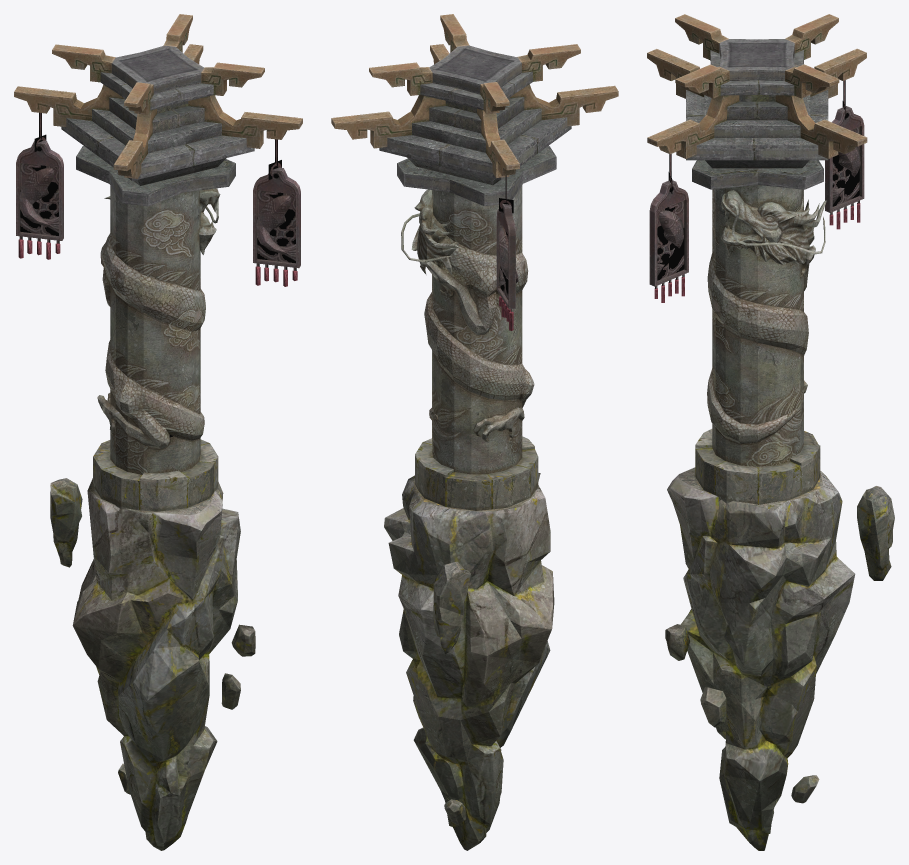
The model's file is bg_anh_gvalley_dragonpoll01_sm_out.FBX.
The picture shows the model from 3 angles, left to right: view 1: azimuth 30°, elevation 25°; view 2: azimuth 150°, elevation 25°; view 3: azimuth 270°, elevation 25°; orthographic projection.
Parts seen in each view (by area): view 1: bg_anh_gvalley_dragonpoll01_sm_out; view 2: bg_anh_gvalley_dragonpoll01_sm_out; view 3: bg_anh_gvalley_dragonpoll01_sm_out.
Part boxes in pixels (bbox=[...]): bg_anh_gvalley_dragonpoll01_sm_out: bbox=[14, 14, 302, 850]; bg_anh_gvalley_dragonpoll01_sm_out: bbox=[331, 14, 618, 850]; bg_anh_gvalley_dragonpoll01_sm_out: bbox=[647, 14, 894, 850].
Size of the model in its own units: 193 by 771 by 217.
